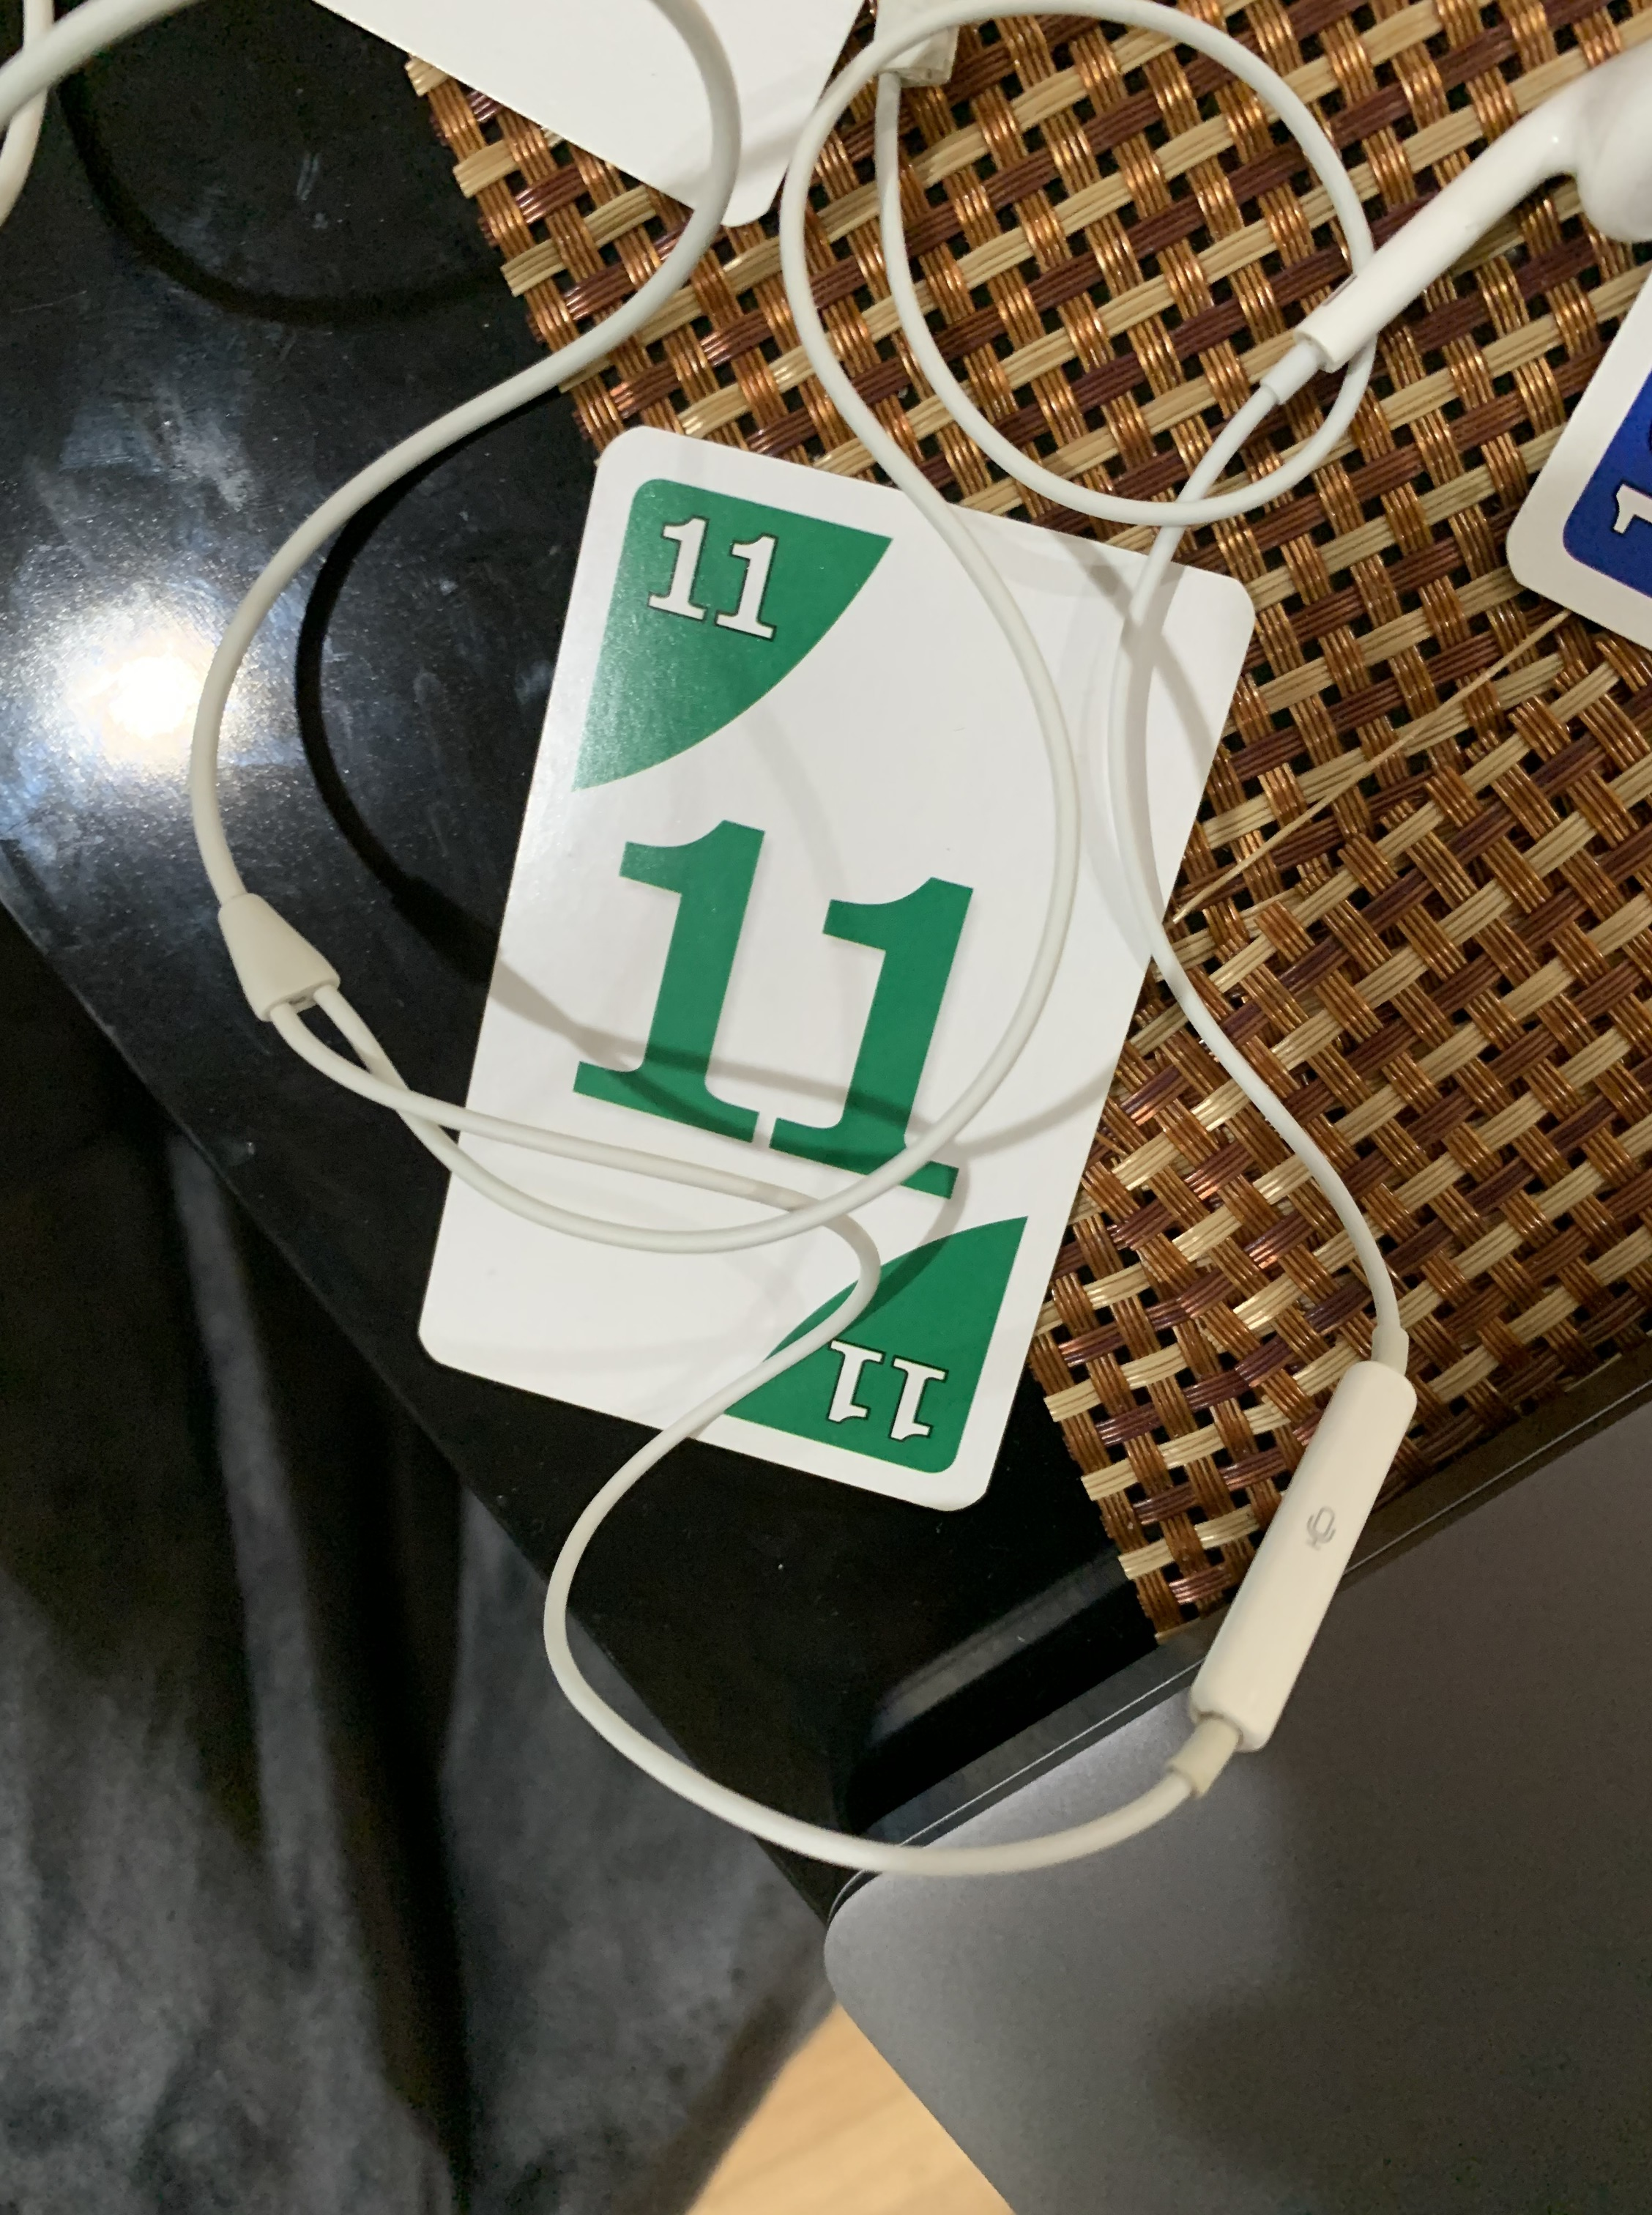eleven: (403, 413, 1293, 1533)
